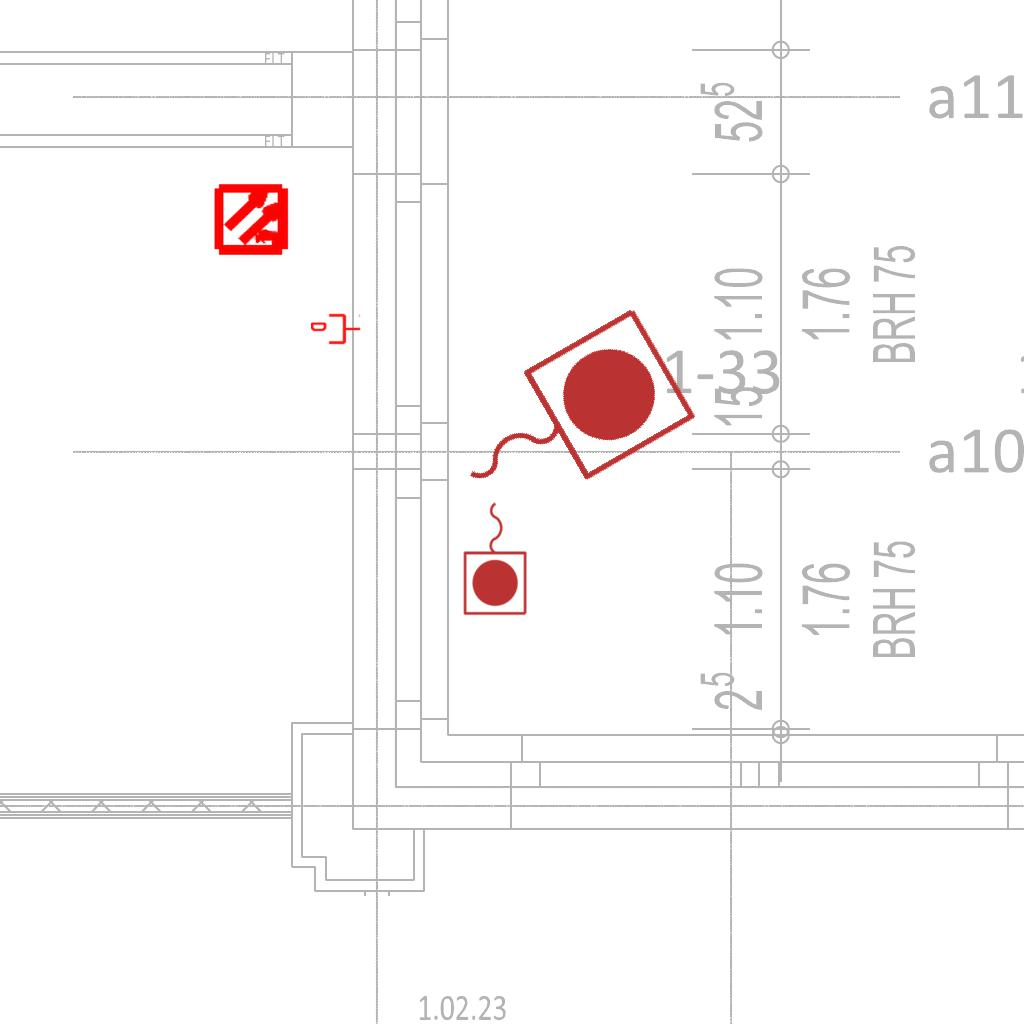Datenanschluss_einfach: (311, 312, 361, 346)
OT_Multisensormelder_(Kombination_RMO_WMD): (197, 163, 310, 276)
Zugtaster: (423, 294, 707, 542), (460, 497, 532, 619)
